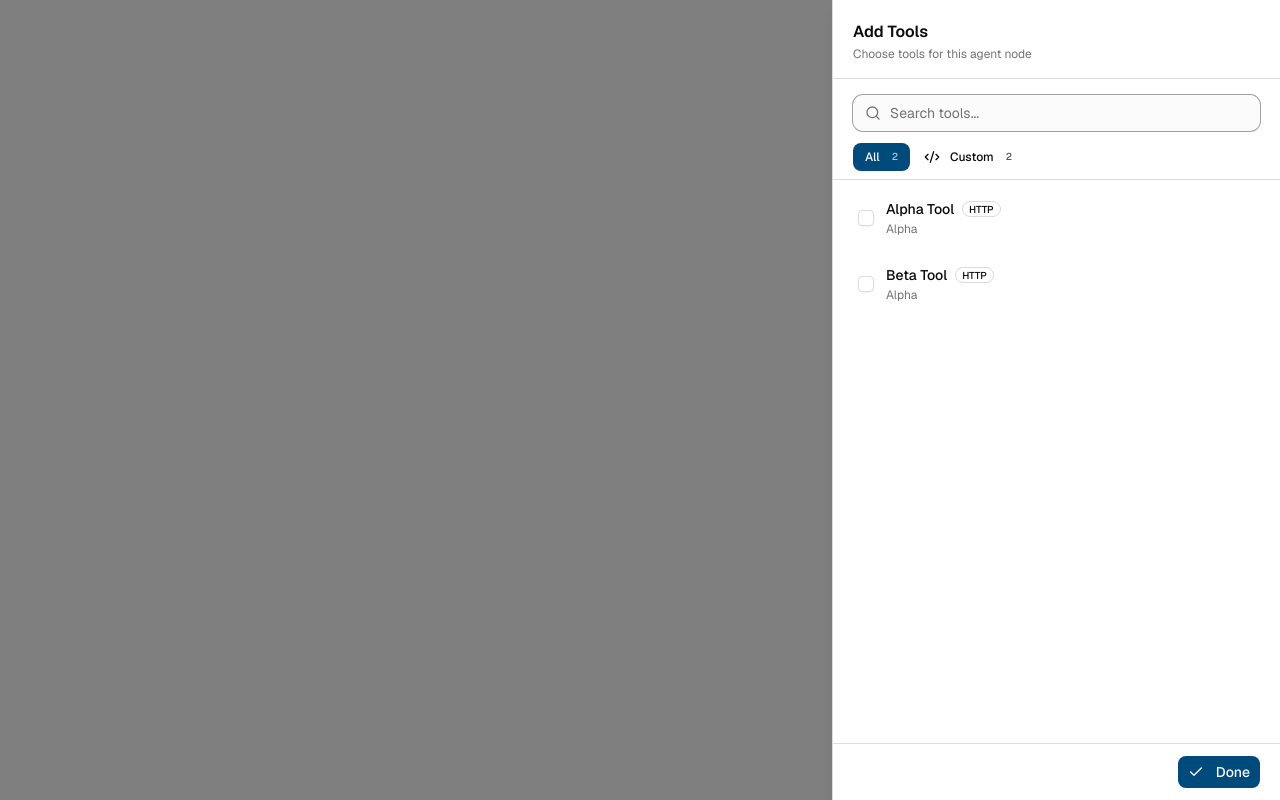
Scenario: ToolPicker filters by search query
In the field with placeholder "Search tools...": x=1056, y=113 [853,95,1260,131], type "Beta"
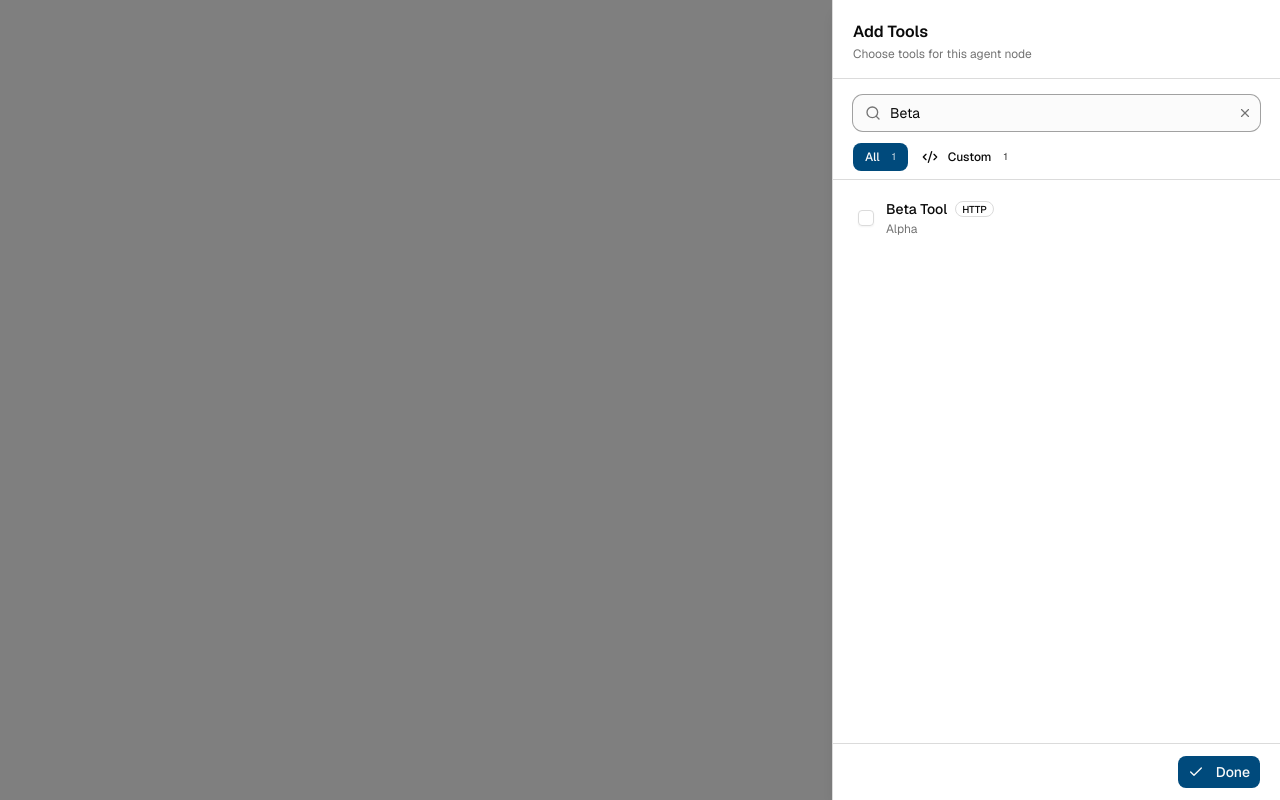
Expected: the text "Beta Tool" is shown, [886,199,947,219]
Expected: the text "Alpha Tool" is gone
